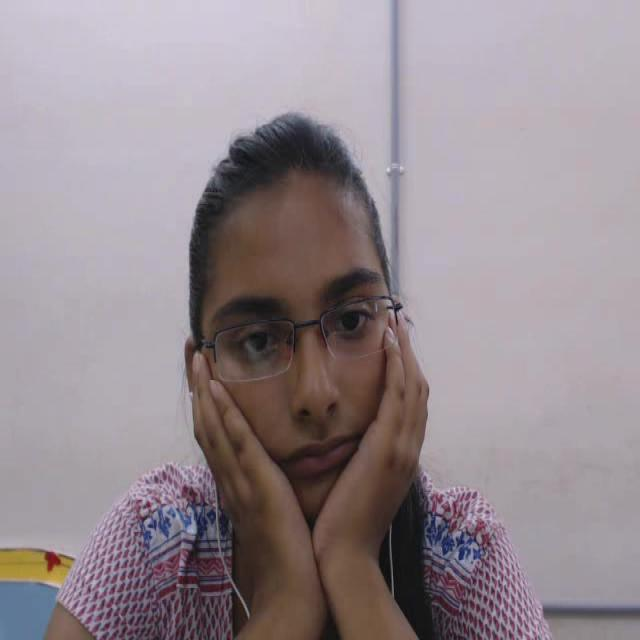Bored: (111, 99, 459, 593)
